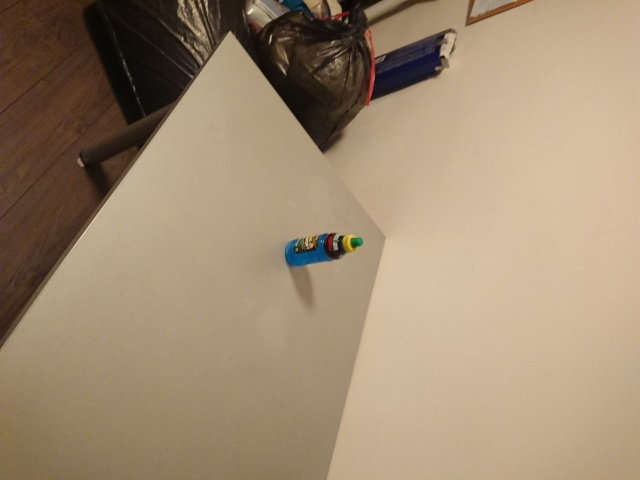Vindi Iso Sport Forest Strawberries 500mL: (283, 230, 363, 267)
